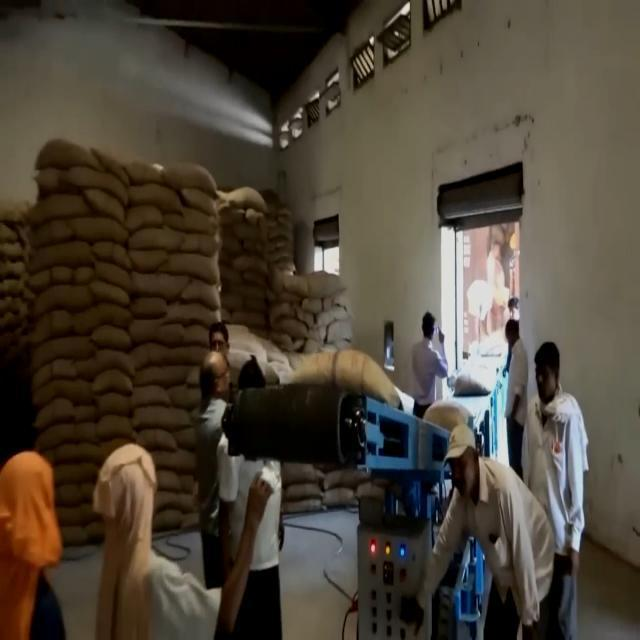gunny_bag: (286, 348, 401, 410), (64, 164, 132, 208), (23, 193, 94, 228), (26, 241, 92, 277), (128, 271, 194, 306), (72, 300, 136, 336), (161, 161, 220, 198), (130, 402, 194, 436), (35, 138, 102, 170), (422, 393, 475, 433), (154, 252, 220, 284), (28, 281, 88, 315), (34, 374, 94, 408), (88, 320, 140, 359), (286, 270, 348, 302), (128, 316, 186, 350), (36, 332, 91, 364), (126, 183, 184, 213), (69, 216, 131, 244), (124, 226, 186, 252), (31, 398, 80, 430), (92, 412, 138, 446), (162, 207, 222, 233), (178, 277, 223, 311), (92, 146, 130, 185), (88, 276, 130, 308), (130, 364, 190, 386), (136, 423, 180, 453), (122, 159, 167, 188), (228, 186, 271, 216), (90, 366, 136, 394), (166, 302, 218, 326), (94, 387, 131, 419), (126, 381, 170, 406), (56, 440, 102, 463), (231, 252, 268, 280), (95, 264, 132, 291), (232, 308, 276, 329), (286, 478, 324, 500), (325, 488, 359, 510), (158, 467, 190, 490), (266, 299, 292, 327), (60, 466, 93, 488), (234, 221, 270, 241), (324, 322, 354, 344), (295, 308, 316, 332)
